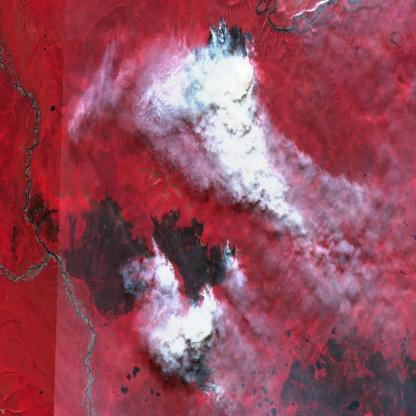fire: (143, 234, 244, 315), (179, 12, 255, 109), (188, 357, 219, 400)
